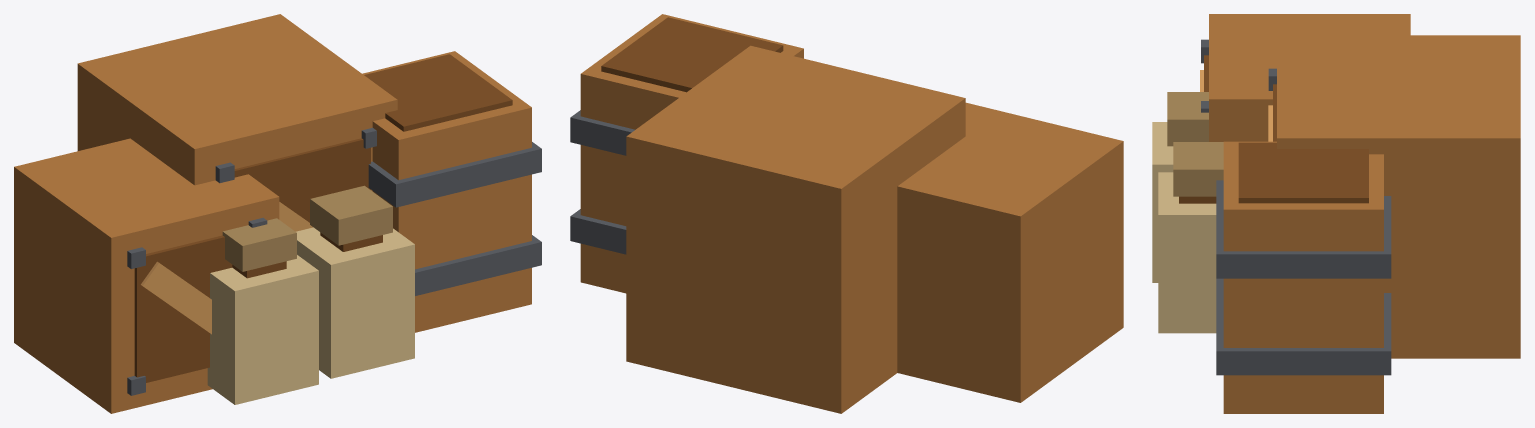
The model's file is prop-crates.glb.
3 views of the same model, side by side, from view 1: azimuth 30°, elevation 25°; view 2: azimuth 150°, elevation 25°; view 3: azimuth 270°, elevation 25° (orthographic). The views are drawn at different scales.
Visible parts, largest first — view 1: Crate, Crate.001, Barrel, Sack, Sack.001, Inset, BarrelLip, Inset.001, Hoop.001, Top.001, Hoop, Top (+2 smaller); view 2: Crate.001, Crate, Barrel, BarrelLip, Hoop.001, Hoop; view 3: Crate.001, Barrel, Crate, Sack.001, BarrelLip, Hoop.001, Hoop, Top.001, Top, Sack.
Part boxes in pixels (<box>): Crate: <box>14,138,279,413</box>; Crate.001: <box>77,14,397,191</box>; Barrel: <box>362,51,531,332</box>; Sack: <box>207,255,318,404</box>; Sack.001: <box>296,227,414,378</box>; Inset: <box>134,235,232,382</box>; BarrelLip: <box>364,54,512,131</box>; Inset.001: <box>234,138,370,222</box>; Hoop.001: <box>368,142,541,207</box>; Top.001: <box>310,185,392,245</box>; Hoop: <box>415,235,541,295</box>; Top: <box>222,218,296,271</box>; Crate.001: <box>626,45,965,413</box>; Crate: <box>897,102,1123,402</box>; Barrel: <box>580,14,803,293</box>; BarrelLip: <box>601,17,783,92</box>; Hoop.001: <box>570,110,635,155</box>; Hoop: <box>570,209,626,254</box>; Crate.001: <box>1277,35,1520,358</box>; Barrel: <box>1223,141,1383,413</box>; Crate: <box>1209,14,1410,141</box>; Sack.001: <box>1158,172,1216,333</box>; BarrelLip: <box>1238,142,1368,203</box>; Hoop.001: <box>1216,180,1391,278</box>; Hoop: <box>1216,278,1391,375</box>; Top.001: <box>1173,142,1223,196</box>; Top: <box>1167,92,1208,146</box>; Sack: <box>1152,122,1173,282</box>.
Size of the model in its own units: 1.75 by 0.82 by 1.24.
